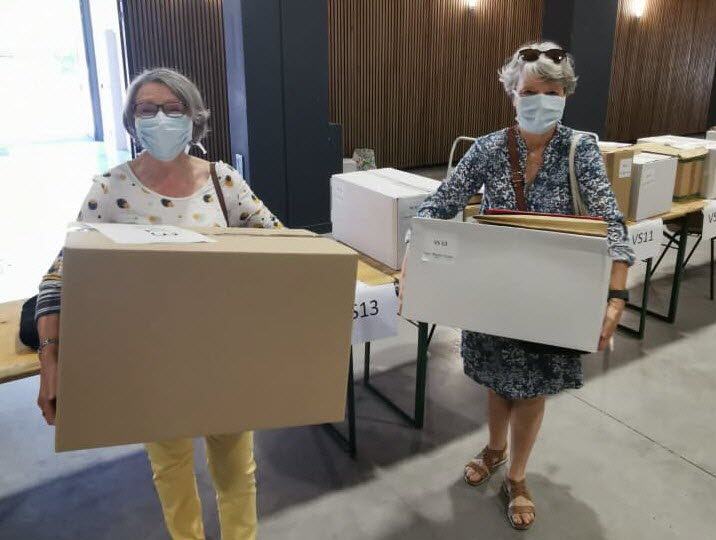with_mask: (124, 100, 206, 164), (507, 80, 570, 133)
